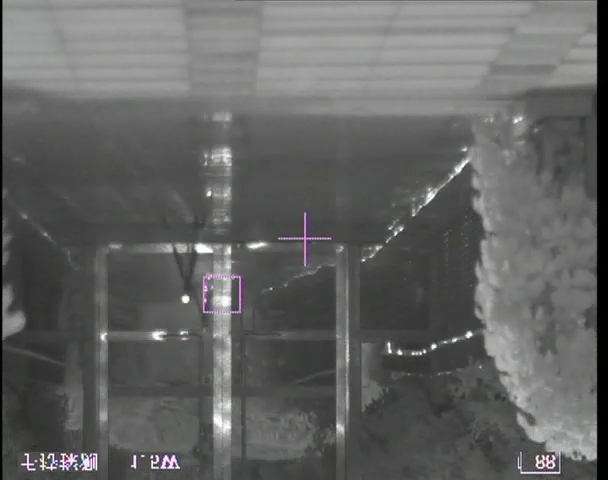my: (179, 293, 191, 305)
